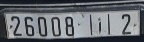0: (37, 16, 48, 36), (51, 17, 62, 36)
2: (120, 13, 134, 35), (9, 16, 23, 37)
6: (23, 15, 35, 36)
8: (65, 15, 75, 37)
a: (96, 16, 105, 35)
